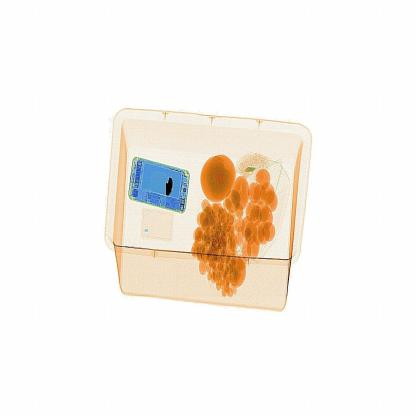knife: (155, 170, 178, 208)
